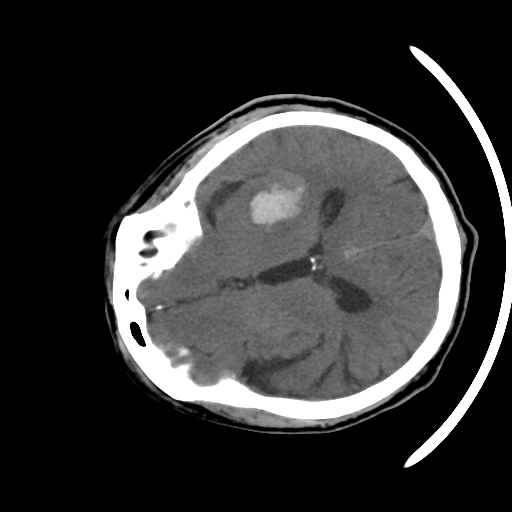a: (235, 156, 334, 246)
